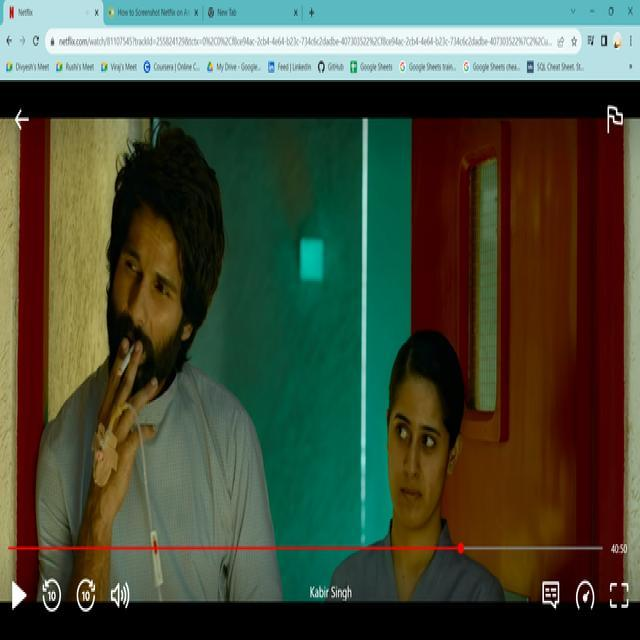smoking: (112, 332, 138, 382)
